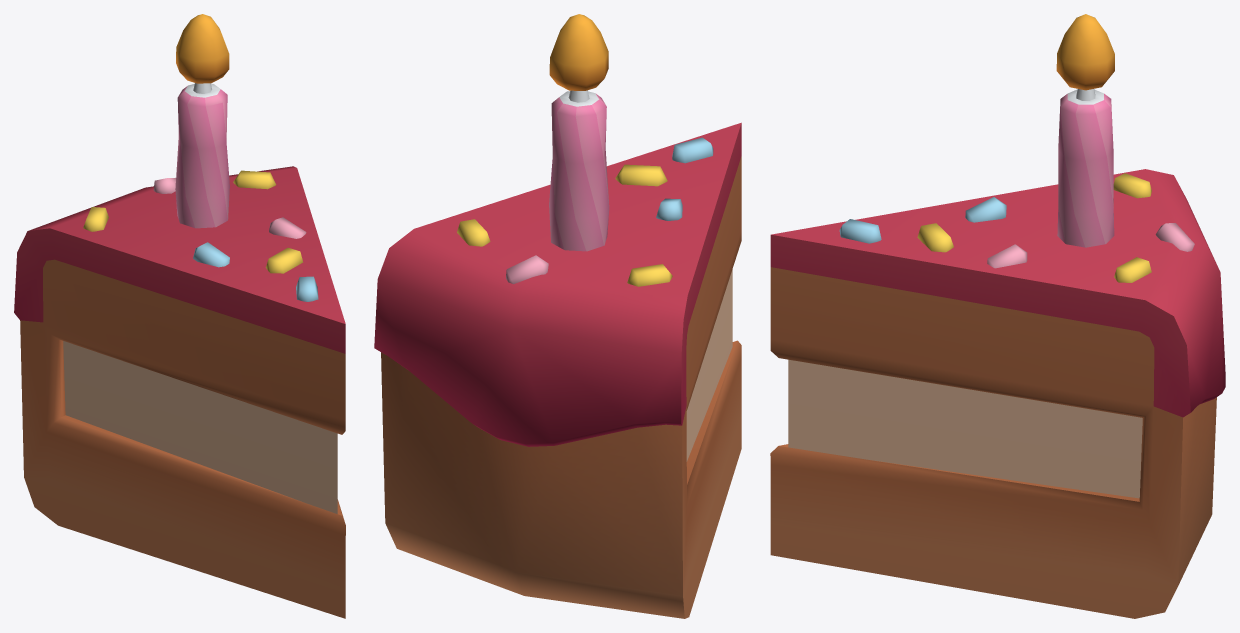
The model's file is cakeSlice.glb.
3 renders of one model, left to right at view 1: azimuth 30°, elevation 25°; view 2: azimuth 150°, elevation 25°; view 3: azimuth 270°, elevation 25°, orthographic. The views are drawn at different scales.
Parts seen in each view (by area): view 1: cake_birthday_slice, cake_birthday_slice_candle_fire; view 2: cake_birthday_slice, cake_birthday_slice_candle_fire; view 3: cake_birthday_slice, cake_birthday_slice_candle_fire.
Boxes of the visible parts, x1,y1,x2,y2 form: cake_birthday_slice: (14,83,345,618); cake_birthday_slice_candle_fire: (176,14,229,83); cake_birthday_slice: (374,90,741,618); cake_birthday_slice_candle_fire: (549,14,608,90); cake_birthday_slice: (770,89,1225,618); cake_birthday_slice_candle_fire: (1056,14,1114,90).
Size of the model in its own units: 0.4668 by 0.8021 by 0.6102.
Materials: 1 (1 with a texture image).
